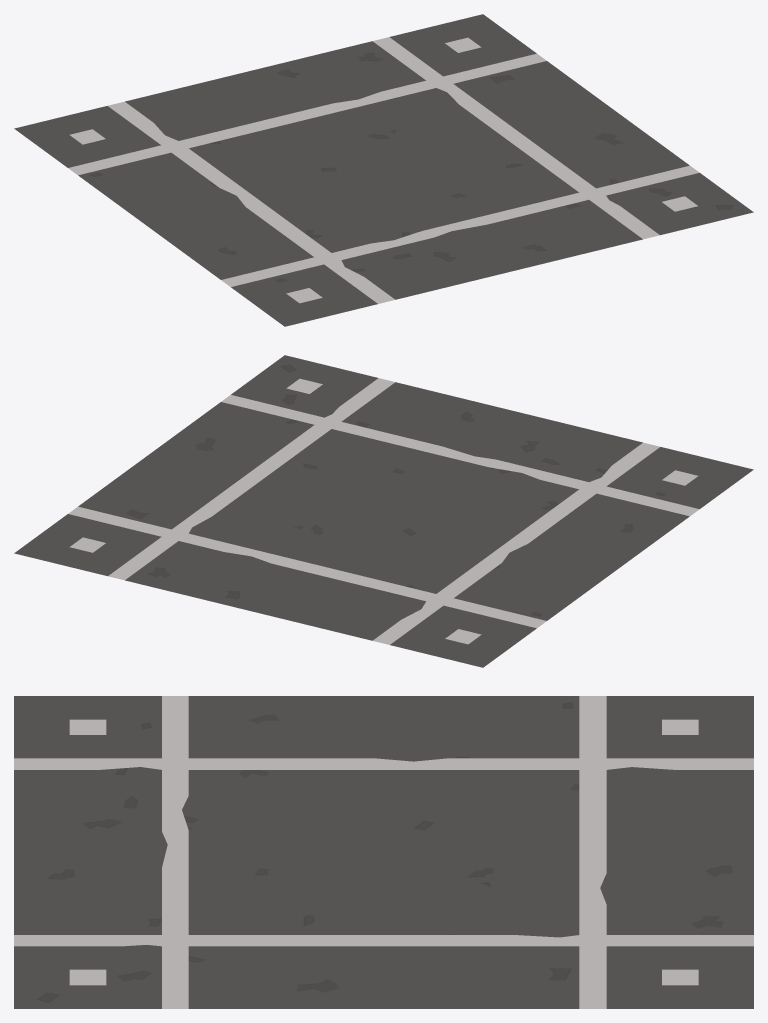
The model's file is SM_Env_Ground_Lines_Intersection_01.fbx.
3 views of the same model, one above another, from view 1: azimuth 30°, elevation 25°; view 2: azimuth 150°, elevation 25°; view 3: azimuth 270°, elevation 25° (orthographic). The views are drawn at different scales.
Parts seen in each view (by area): view 1: SM_Env_Ground_Lines_Intersection_01; view 2: SM_Env_Ground_Lines_Intersection_01; view 3: SM_Env_Ground_Lines_Intersection_01.
Part boxes in pixels (<box>): SM_Env_Ground_Lines_Intersection_01: <box>14,14,753,326</box>; SM_Env_Ground_Lines_Intersection_01: <box>14,355,753,667</box>; SM_Env_Ground_Lines_Intersection_01: <box>14,696,753,1008</box>.
Size of the model in its own units: 1000 by 1.82e-12 by 1000.
